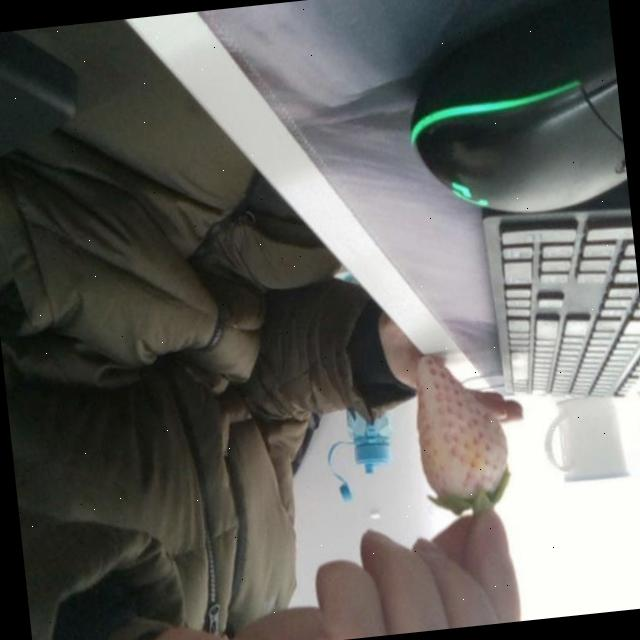strawberry: (410, 346, 515, 515)
